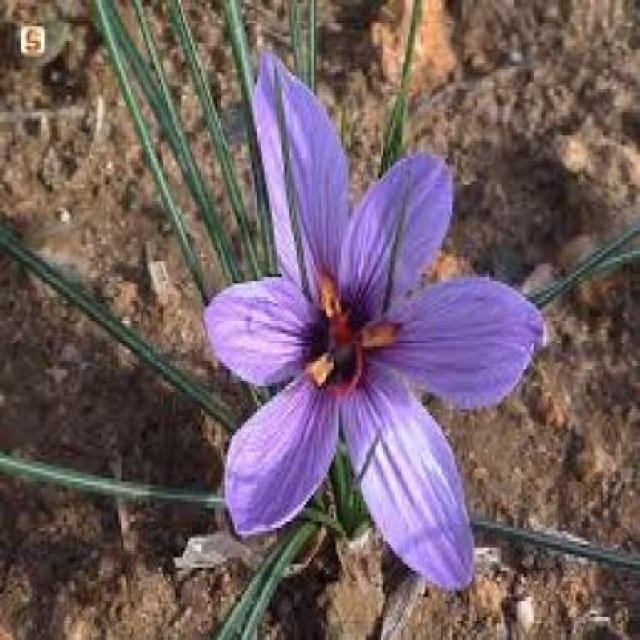saffron open: (205, 55, 541, 589)
